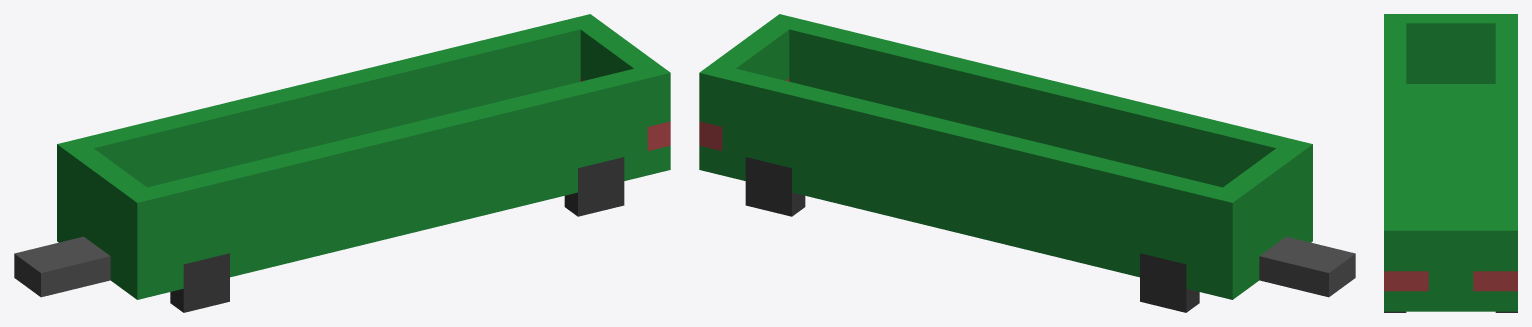
Rendered from truck-trailer-v3-green.gltf.
3 views of the same model, side by side, from view 1: azimuth 30°, elevation 25°; view 2: azimuth 150°, elevation 25°; view 3: azimuth 270°, elevation 25° (orthographic). The views are drawn at different scales.
Parts seen in each view (by area): view 1: model, wheels; view 2: model, wheels; view 3: model.
Part boxes in pixels (x1,y1,x2,y2): model: [14, 14, 670, 299]; wheels: [170, 157, 624, 312]; model: [699, 14, 1355, 299]; wheels: [745, 157, 1199, 312]; model: [1384, 14, 1517, 311].
Size of the model in its own units: 2.6 by 0.5 by 0.6.
Materials: 2 (2 with a texture image).
